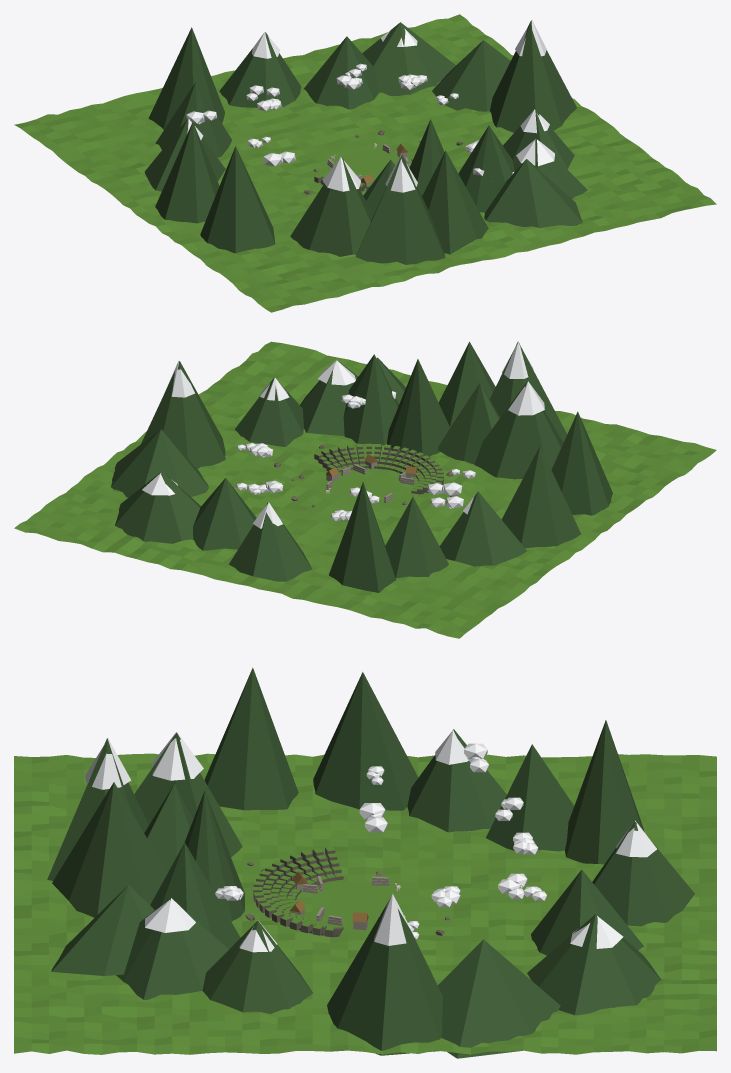
File: Escenario_MachuPicchu.fbx
The picture shows the model from 3 angles, top to bottom: view 1: azimuth 30°, elevation 25°; view 2: azimuth 150°, elevation 25°; view 3: azimuth 270°, elevation 25°; orthographic projection. The views are drawn at different scales.
Parts seen in each view (by area): view 1: Escenario_MachuPicchu_Pasto, Escenario_MachuPicchu_Montana, Escenario_MachuPicchu_Nube; view 2: Escenario_MachuPicchu_Montana, Escenario_MachuPicchu_Pasto, Escenario_MachuPicchu_Nube, Escenario_MachuPicchu_PiedraOscura, Escenario_MachuPicchu_Piedra; view 3: Escenario_MachuPicchu_Montana, Escenario_MachuPicchu_Pasto, Escenario_MachuPicchu_Nube, Escenario_MachuPicchu_PiedraOscura, Escenario_MachuPicchu_Piedra.
Boxes of the visible parts, x1,y1,x2,y2 form: Escenario_MachuPicchu_Pasto: (14,14,716,312); Escenario_MachuPicchu_Montana: (144,20,587,264); Escenario_MachuPicchu_Nube: (186,20,554,192); Escenario_MachuPicchu_Montana: (111,341,612,592); Escenario_MachuPicchu_Pasto: (14,341,716,638); Escenario_MachuPicchu_Nube: (142,342,544,528); Escenario_MachuPicchu_PiedraOscura: (314,445,443,494); Escenario_MachuPicchu_Piedra: (326,461,417,502); Escenario_MachuPicchu_Montana: (47,667,694,1058); Escenario_MachuPicchu_Pasto: (14,753,716,1054); Escenario_MachuPicchu_Nube: (85,730,656,952); Escenario_MachuPicchu_PiedraOscura: (253,847,343,937); Escenario_MachuPicchu_Piedra: (290,876,389,930).
Size of the model in its own units: 140 by 32.03 by 140.
